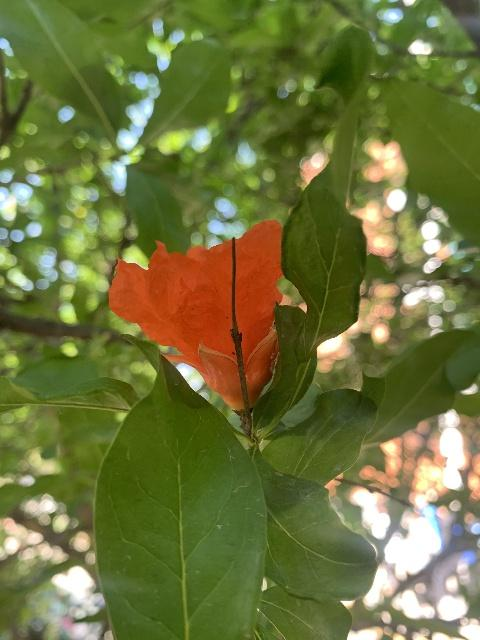flower: (108, 220, 284, 410)
